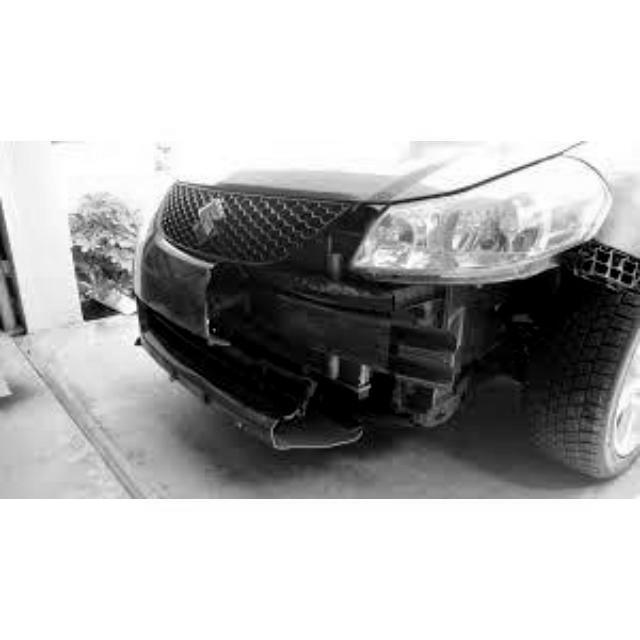front-bumper-dent: (152, 248, 542, 440)
